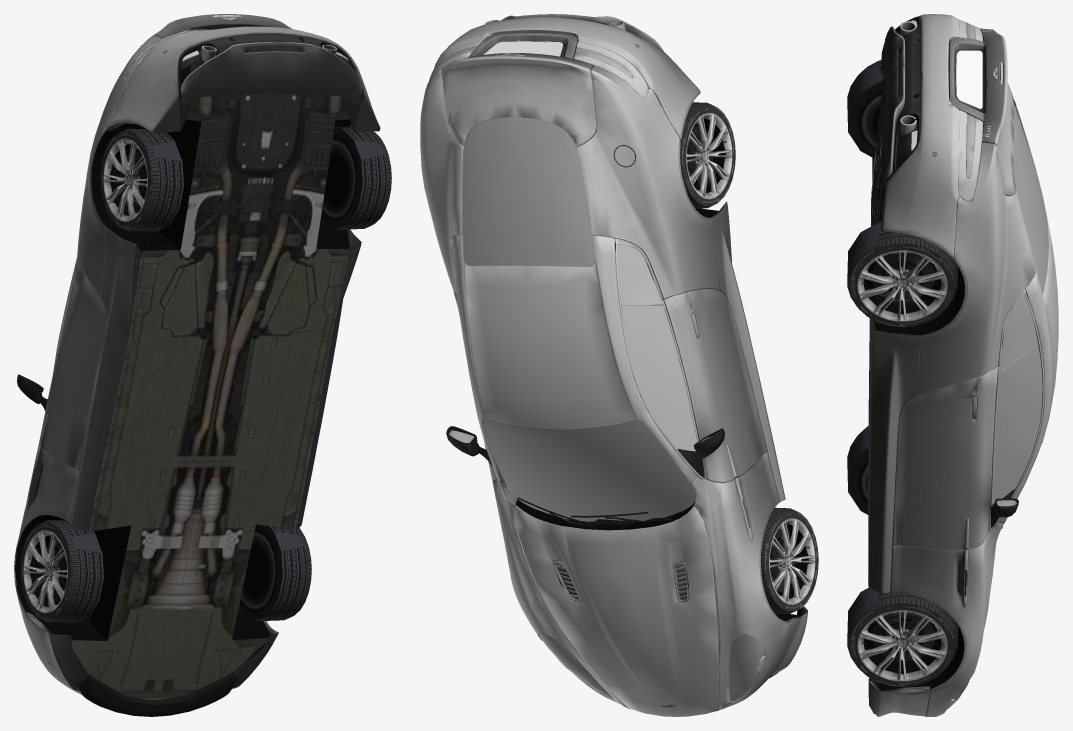
The model's file is vehicle-mobile-v2.glb.
3 renders of one model, left to right at view 1: azimuth 30°, elevation 25°; view 2: azimuth 150°, elevation 25°; view 3: azimuth 270°, elevation 25°, orthographic. The views are drawn at different scales.
Parts seen in each view (by area): view 1: vehicle-detail-0; view 2: vehicle-detail-0; view 3: vehicle-detail-0.
Boxes of the visible parts, x1,y1,x2,y2 form: vehicle-detail-0: [14, 14, 391, 716]; vehicle-detail-0: [420, 14, 818, 716]; vehicle-detail-0: [847, 14, 1058, 716].
Size of the model in its own units: 17.6 by 31.94 by 8.74.
Materials: 7 (4 with a texture image).
